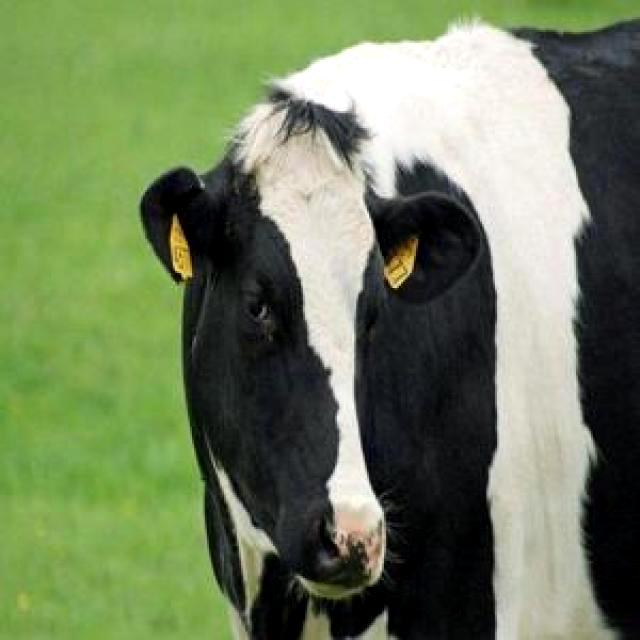COW: (141, 21, 640, 639)
